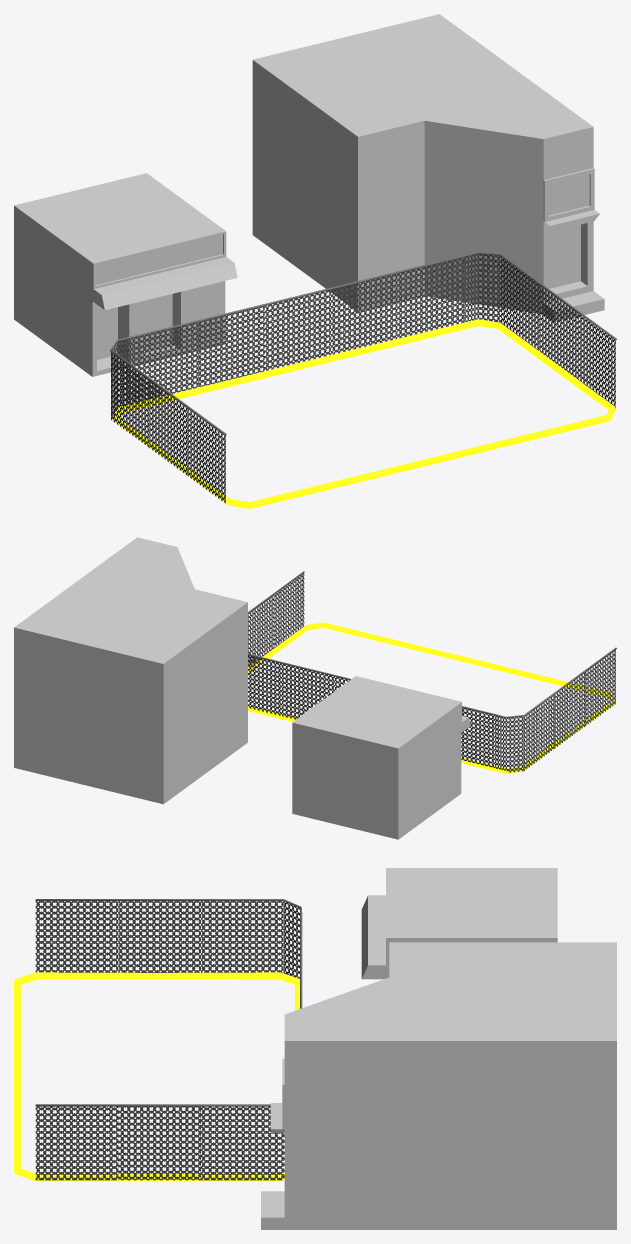
Rendered from BackAlleyCourtEnvironment.fbx.
3 views of the same model, one above another, from view 1: azimuth 30°, elevation 25°; view 2: azimuth 150°, elevation 25°; view 3: azimuth 270°, elevation 25° (orthographic). The views are drawn at different scales.
Visible parts, largest first — view 1: Cube.002, Fence, Cube.001, RingOutline; view 2: Cube.002, Cube.001, Fence, RingOutline; view 3: Cube.002, Fence, Cube.001, RingOutline.
Part boxes in pixels (x1=…): Cube.002: x1=252, y1=14, x2=604, y2=321; Fence: x1=110, y1=251, x2=616, y2=503; Cube.001: x1=14, y1=173, x2=237, y2=376; RingOutline: x1=113, y1=319, x2=615, y2=508; Cube.002: x1=14, y1=537, x2=247, y2=804; Cube.001: x1=292, y1=676, x2=470, y2=839; Fence: x1=248, y1=571, x2=616, y2=772; RingOutline: x1=248, y1=622, x2=615, y2=773; Cube.002: x1=261, y1=942, x2=616, y2=1229; Fence: x1=35, y1=899, x2=302, y2=1180; Cube.001: x1=361, y1=868, x2=557, y2=979; RingOutline: x1=14, y1=972, x2=299, y2=1181.
Bounding box in the file's own units: 1458 × 510 × 1459.
